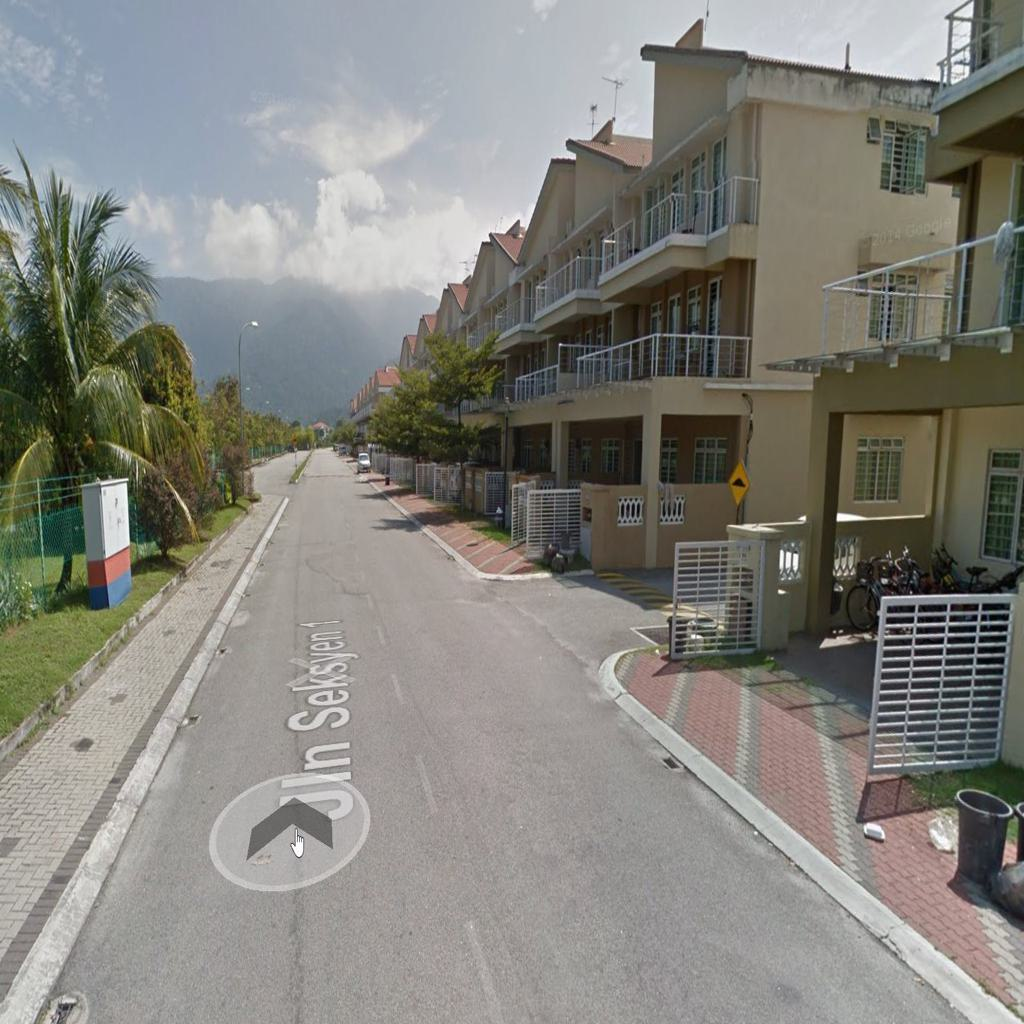Junction: (422, 531, 726, 715)
